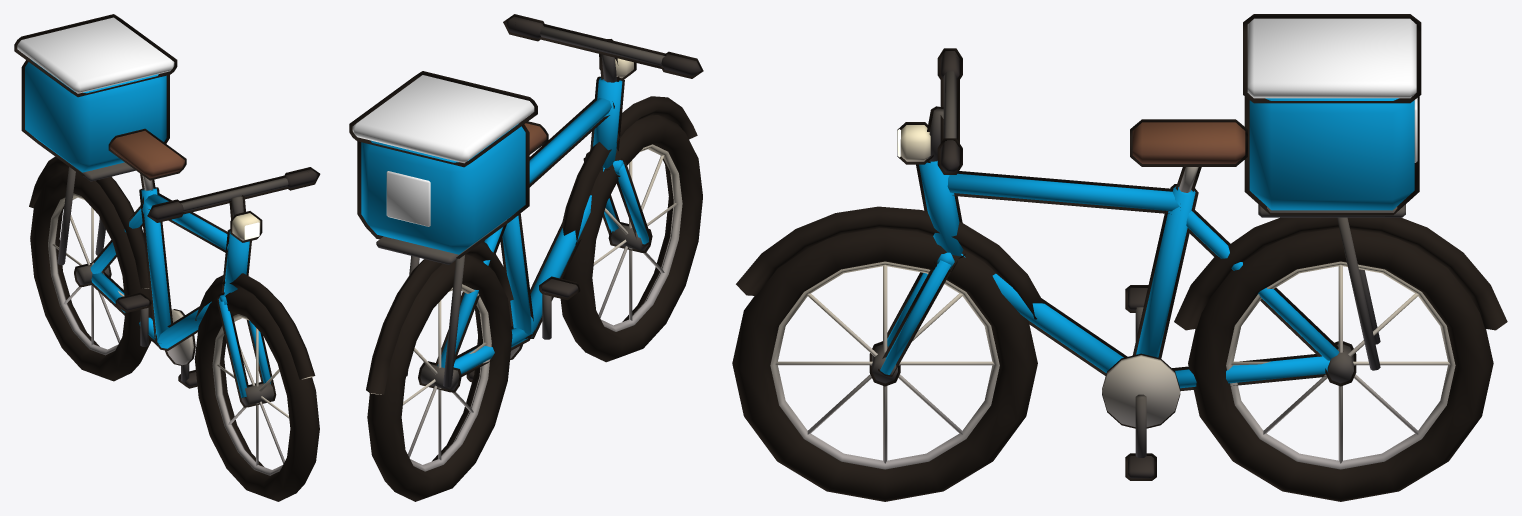
The model's file is Bisiklet.fbx.
The picture shows the model from 3 angles, left to right: view 1: azimuth 30°, elevation 25°; view 2: azimuth 150°, elevation 25°; view 3: azimuth 270°, elevation 25°; orthographic projection. The views are drawn at different scales.
Visible parts, largest first — view 1: Bisiklet, Teker_On, Teker_Arka, Pedal; view 2: Bisiklet, Teker_Arka, Teker_On, Pedal; view 3: Bisiklet, Teker_On, Teker_Arka, Pedal.
Boxes of the visible parts, x1,y1,x2,y2 form: Bisiklet: [14, 14, 320, 398]; Teker_On: [194, 289, 319, 501]; Teker_Arka: [30, 168, 152, 381]; Pedal: [115, 292, 197, 388]; Bisiklet: [349, 14, 703, 394]; Teker_Arka: [367, 254, 512, 501]; Teker_On: [560, 115, 702, 362]; Pedal: [466, 276, 580, 382]; Bisiklet: [736, 14, 1507, 391]; Teker_On: [732, 228, 1037, 501]; Teker_Arka: [1188, 228, 1493, 501]; Pedal: [1102, 285, 1180, 480].
Bounding box in the file's own units: 0.6384 × 1.16 × 1.79.
5 materials, 1 textured.
